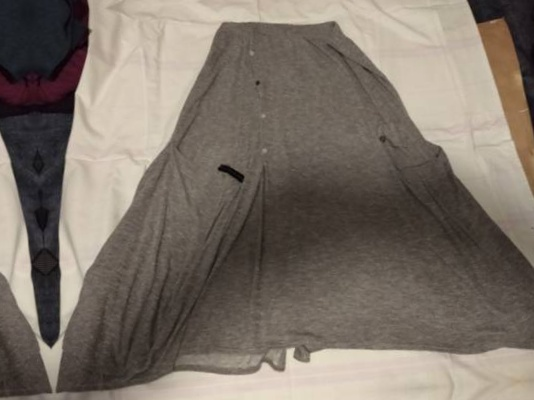Dress: (58, 0, 534, 396), (0, 33, 24, 400), (86, 395, 534, 400)
